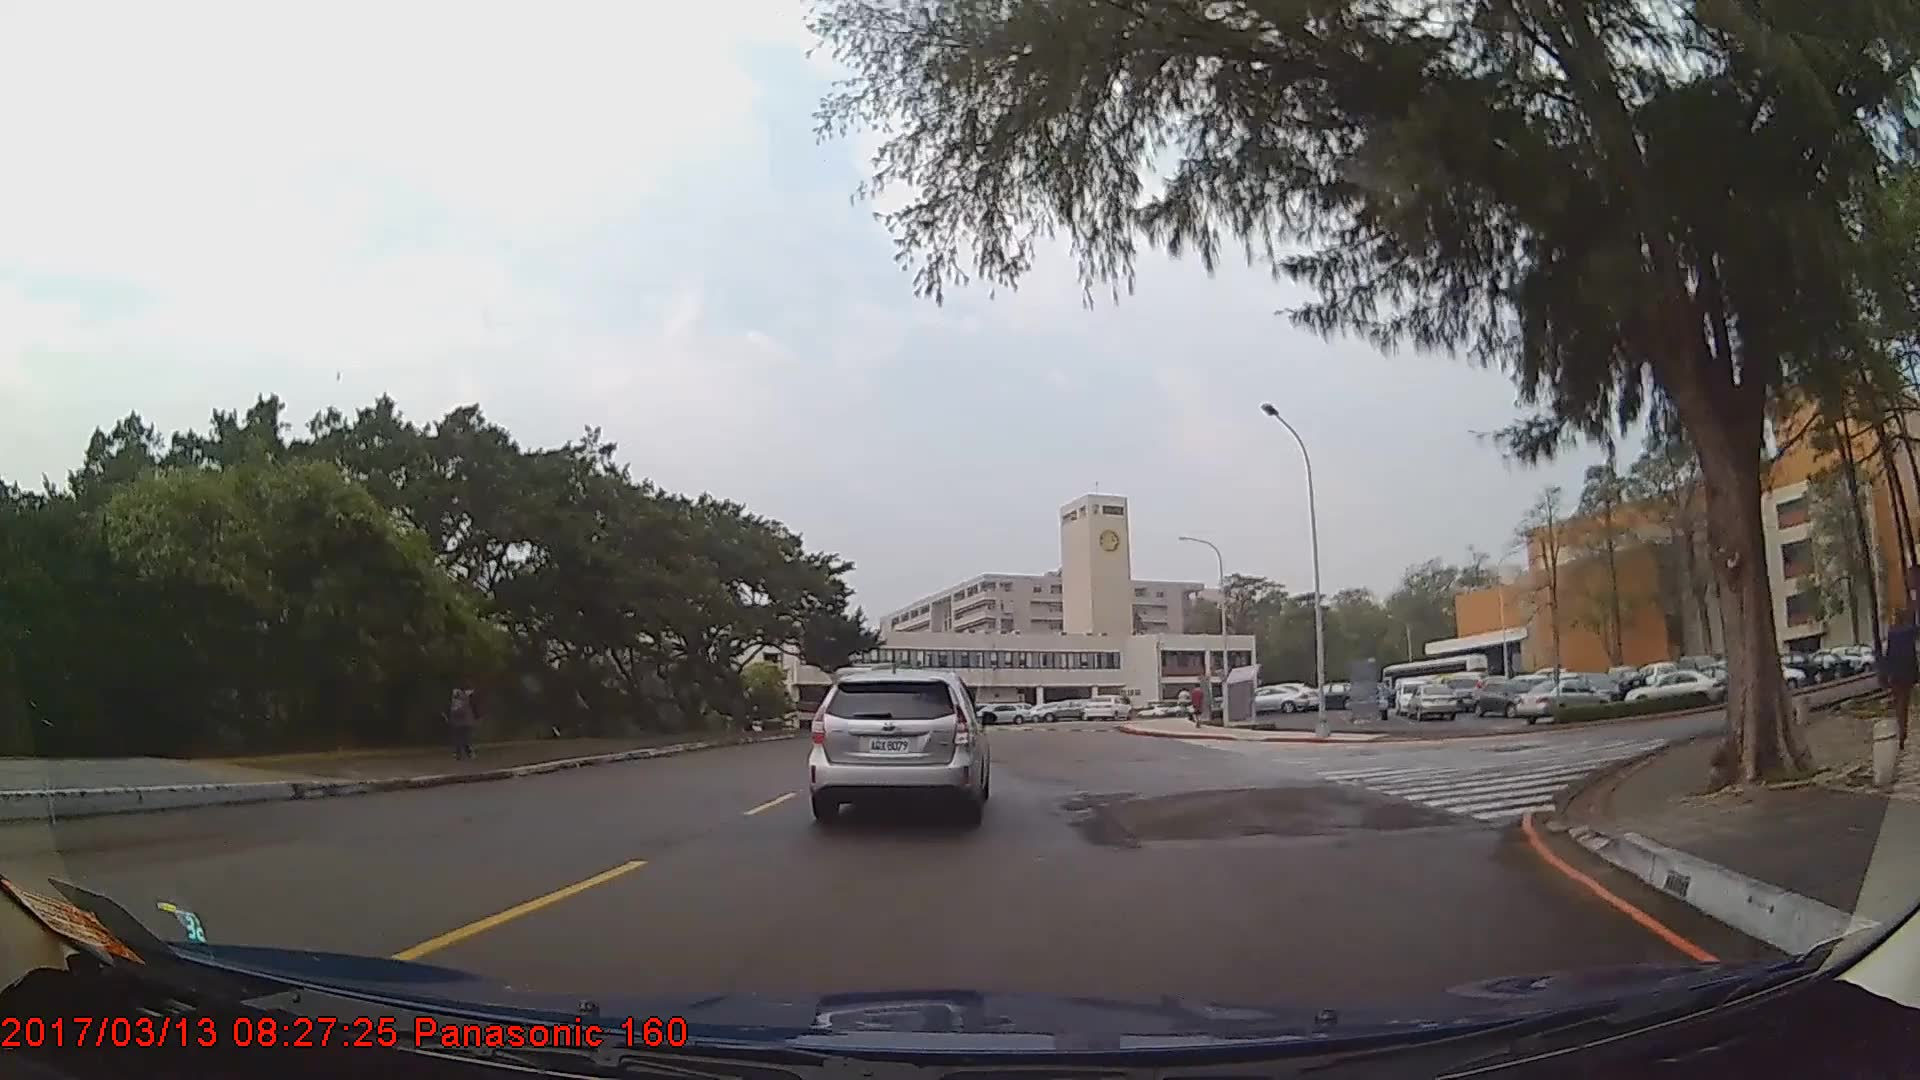pedestrian: (442, 666, 485, 757)
vehicle: (810, 667, 988, 823), (1512, 676, 1608, 725), (1624, 664, 1722, 711), (1471, 673, 1547, 715), (1240, 683, 1309, 712), (1408, 679, 1458, 719), (1078, 693, 1132, 723), (1032, 696, 1094, 720), (973, 699, 1030, 722)
